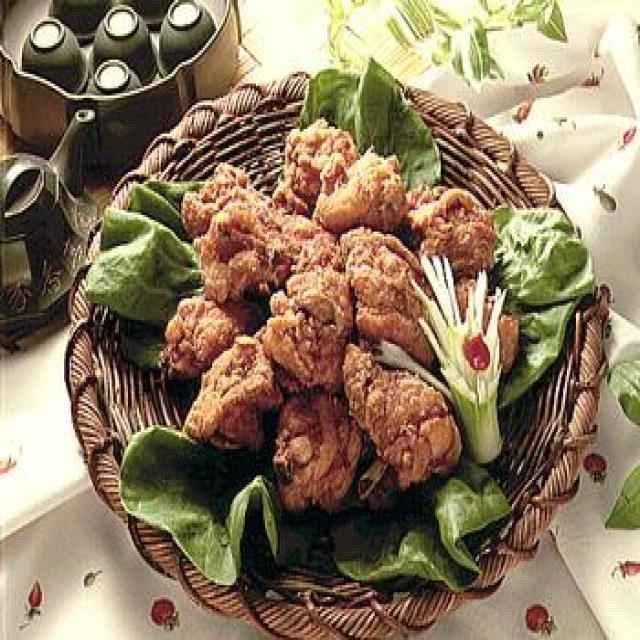鸡肉料理 含炸鸡: (102, 108, 543, 532)
